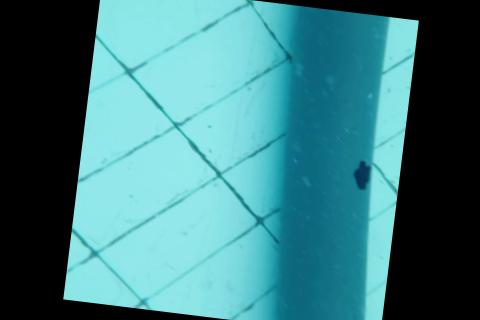kebocoran: (348, 158, 371, 191)
